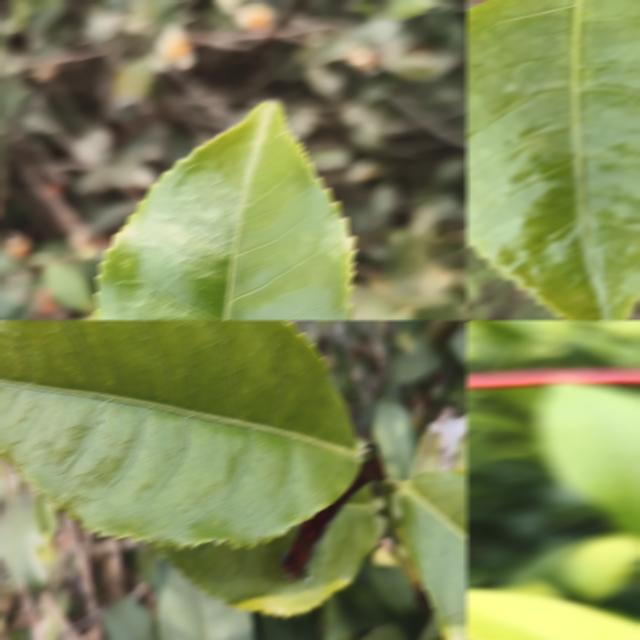Leaf: (0, 320, 359, 548), (93, 101, 355, 320), (466, 0, 640, 320), (162, 486, 378, 616), (537, 384, 640, 536), (396, 472, 468, 640), (466, 588, 640, 640), (156, 562, 255, 640), (0, 488, 55, 586), (371, 399, 417, 479), (103, 594, 161, 640), (365, 563, 417, 613), (258, 613, 320, 640), (450, 328, 468, 369)
